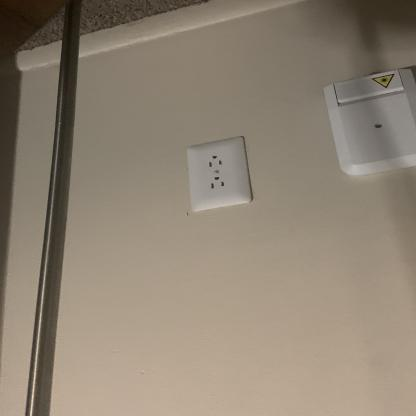OUTLET: (186, 133, 248, 213)
